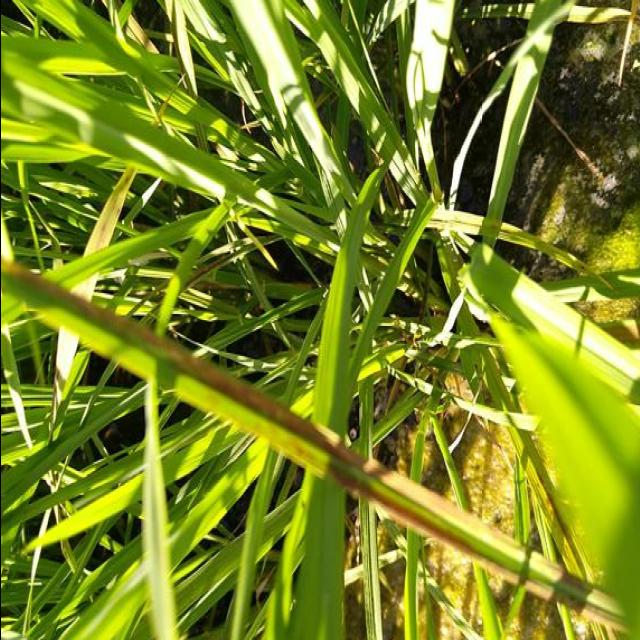Leaf Streak: (0, 255, 632, 630), (83, 166, 137, 257), (50, 326, 79, 414)
